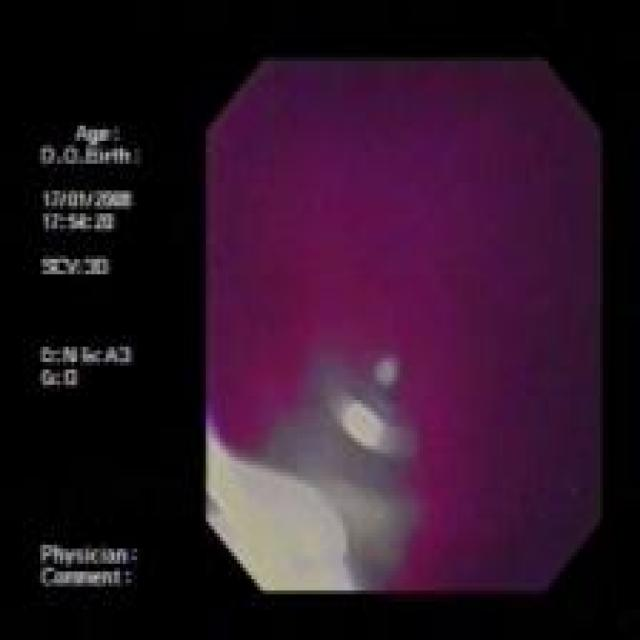color misalignment: (208, 62, 600, 590), (40, 120, 144, 587)
specularity: (343, 394, 382, 452)
